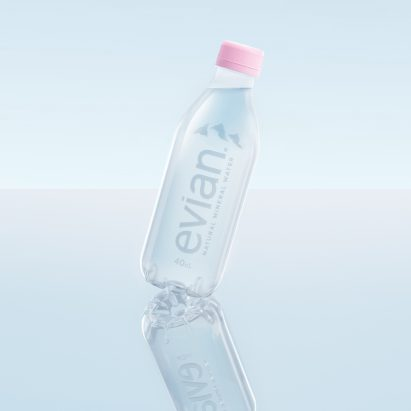plastic_bottle: (91, 13, 317, 313), (63, 227, 330, 411)
